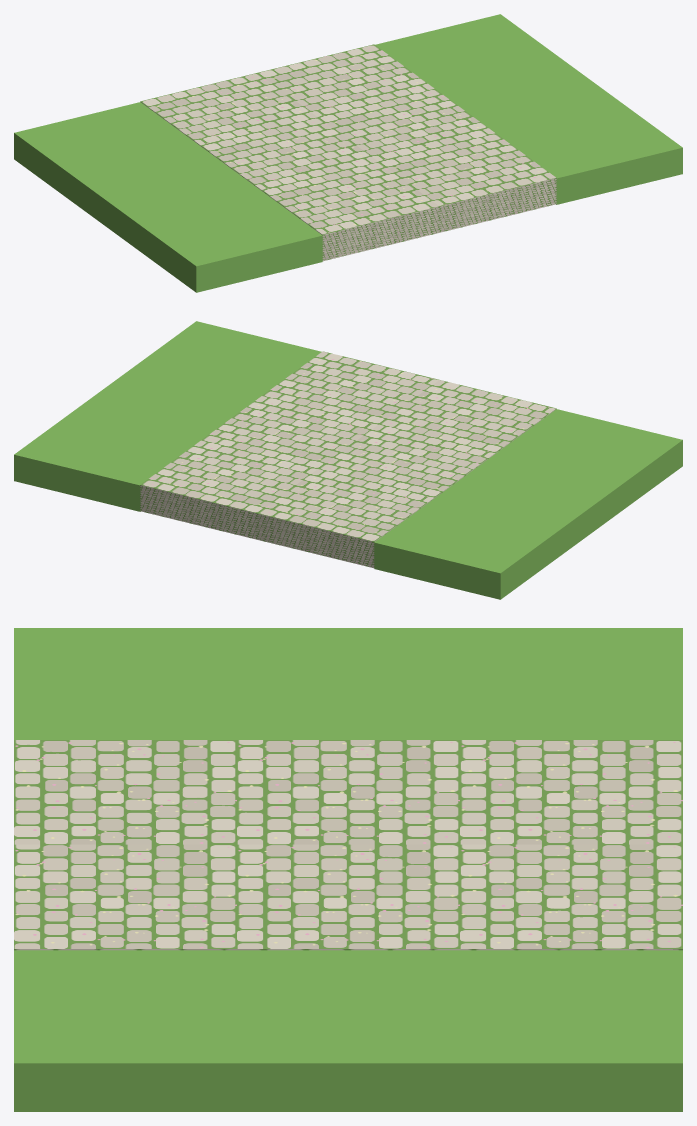
File: gardens-floor-10m.glb
3 renders of one model, top to bottom at view 1: azimuth 30°, elevation 25°; view 2: azimuth 150°, elevation 25°; view 3: azimuth 270°, elevation 25°, orthographic. The views are drawn at different scales.
Parts seen in each view (by area): view 1: gardens floor (10 m); view 2: gardens floor (10 m); view 3: gardens floor (10 m).
Boxes of the visible parts, x1,y1,x2,y2 form: gardens floor (10 m): (14,14,682,292); gardens floor (10 m): (14,321,682,599); gardens floor (10 m): (14,628,682,1111).
Size of the model in its own units: 15.4 by 0.82 by 10.
2 materials, 1 textured.
